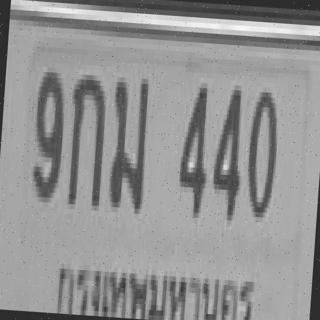A01: (65, 69, 106, 206)
A33: (106, 72, 149, 209)
N00: (243, 81, 279, 213)
N04: (209, 79, 245, 216), (176, 76, 211, 213)
N09: (29, 66, 65, 198)
P04: (52, 243, 258, 320)
